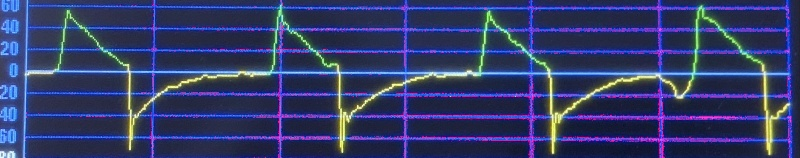normal_flow: (14, 1, 797, 158)
